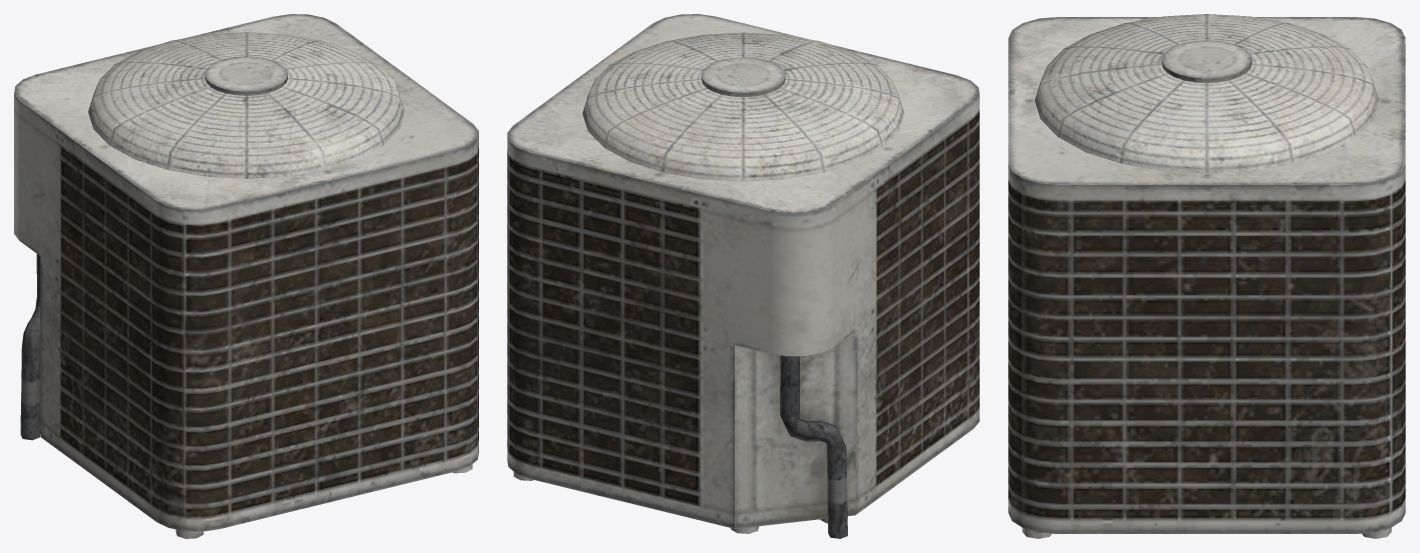
Rendered from sm22_028_airconditioner01a.fbx.
3 renders of one model, left to right at view 1: azimuth 30°, elevation 25°; view 2: azimuth 150°, elevation 25°; view 3: azimuth 270°, elevation 25°, orthographic. The views are drawn at different scales.
Parts seen in each view (by area): view 1: LOD_1_Group_0_Sub_1__AirConditioner01A__MAT; view 2: LOD_1_Group_0_Sub_1__AirConditioner01A__MAT; view 3: LOD_1_Group_0_Sub_1__AirConditioner01A__MAT.
Boxes of the visible parts, bbox=[...] form: LOD_1_Group_0_Sub_1__AirConditioner01A__MAT: bbox=[14, 14, 478, 538]; LOD_1_Group_0_Sub_1__AirConditioner01A__MAT: bbox=[507, 14, 979, 538]; LOD_1_Group_0_Sub_1__AirConditioner01A__MAT: bbox=[1008, 14, 1405, 538].
Size of the model in its own units: 1.02 by 1.12 by 1.
